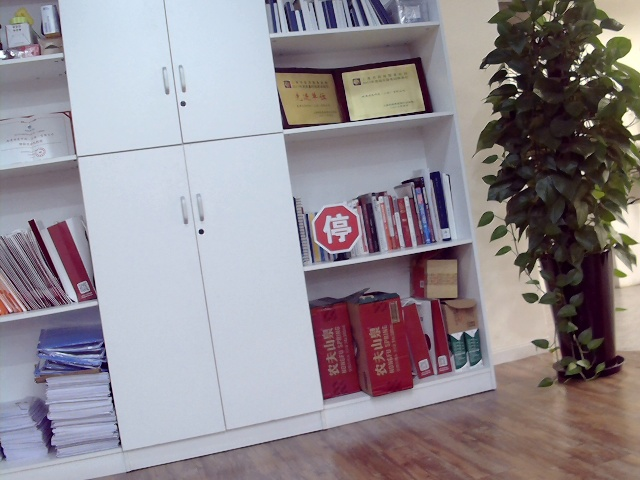stop: (320, 207, 352, 244)
